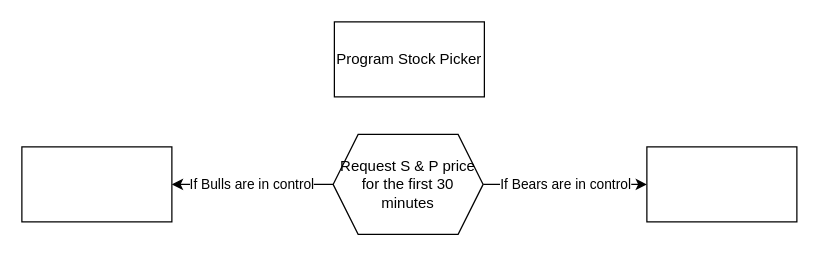
The diagram is 819 pixels wide and 256 high, and some of its shapes have lost their labels. Here are the shapes that lost their labels. From the top down, the centre of each, then its label:
At [96,184]: "while (Bullish) buy FAANG stocks ENDWHILE".
At [721,184]: "while (Bearish) short FAANG stocks ENDWHILE".
